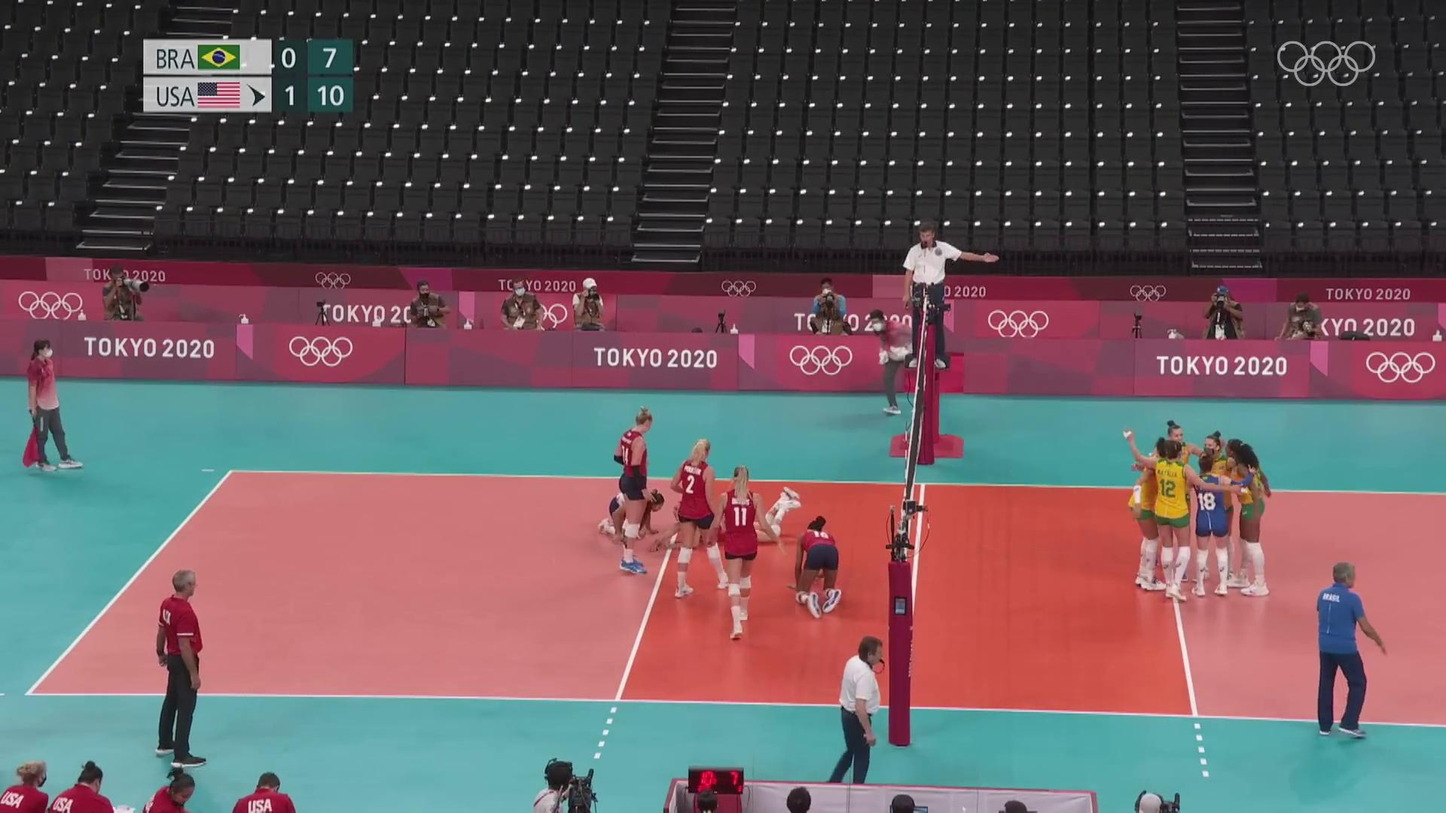player: (1149, 422, 1202, 585), (714, 467, 763, 641), (674, 443, 727, 596), (1148, 439, 1194, 594), (1222, 441, 1265, 596), (683, 490, 801, 546), (1130, 440, 1172, 593), (1187, 447, 1228, 596), (615, 411, 652, 576), (1194, 432, 1231, 588), (792, 515, 846, 610), (601, 484, 665, 546)
refree: (906, 227, 987, 364), (830, 634, 888, 783), (14, 341, 79, 470), (872, 306, 920, 414)
